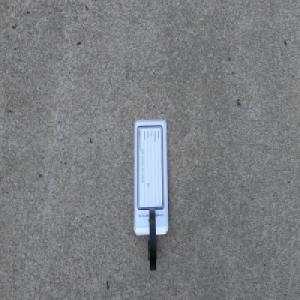LuggageTag: (131, 117, 170, 273)
